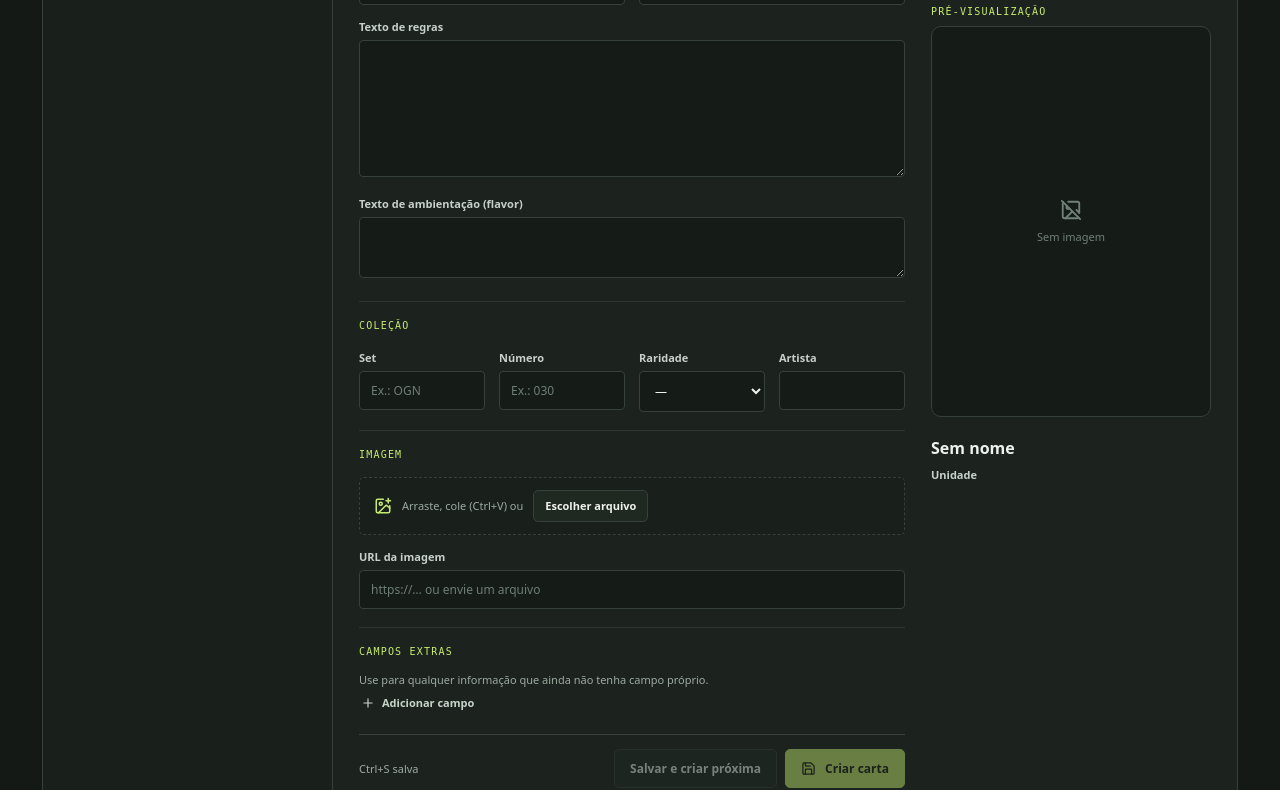
Test: AddCardsPage › warns about a repeated set and collector number
(page scrolled)
Type "OGN" into the field labelled "Set". click: [422, 390]
box: [359,371,485,410]
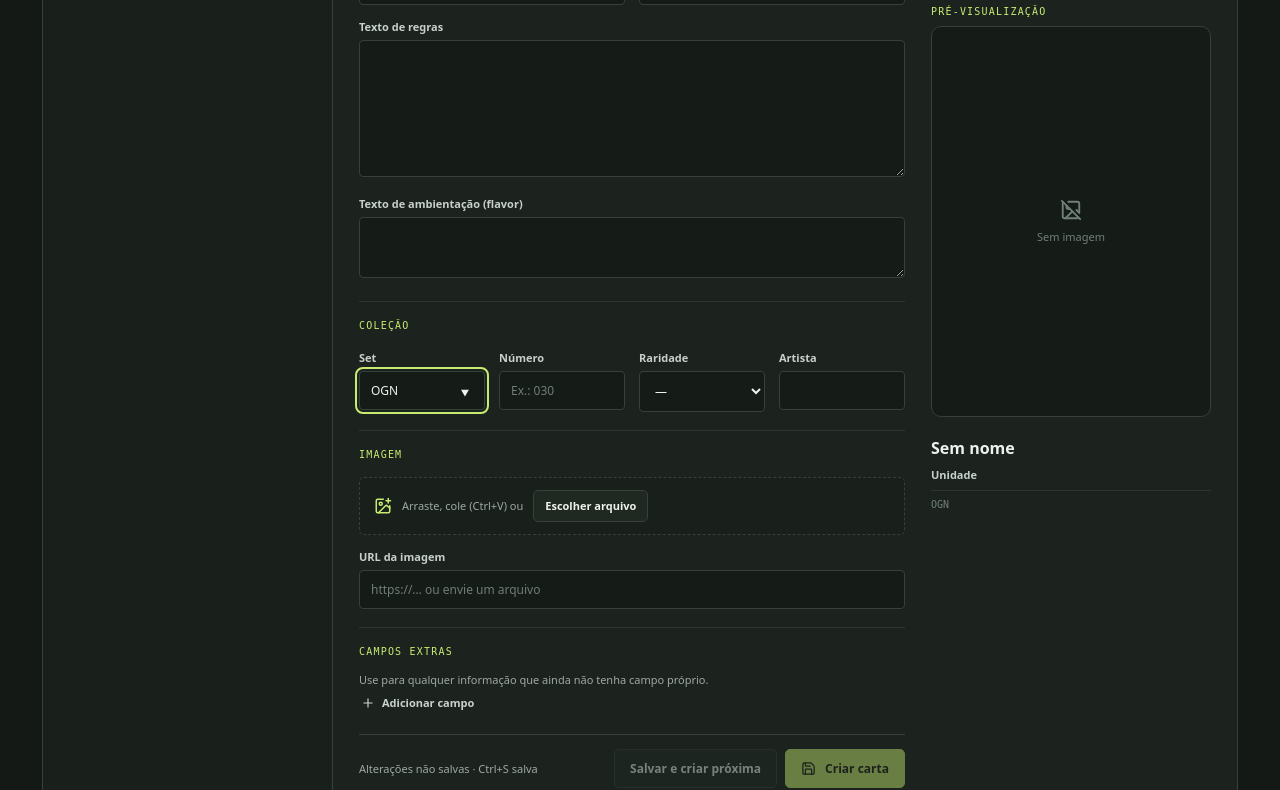
Type "030" into the field labelled "Número". click: [562, 390]
box: [499,371,625,410]
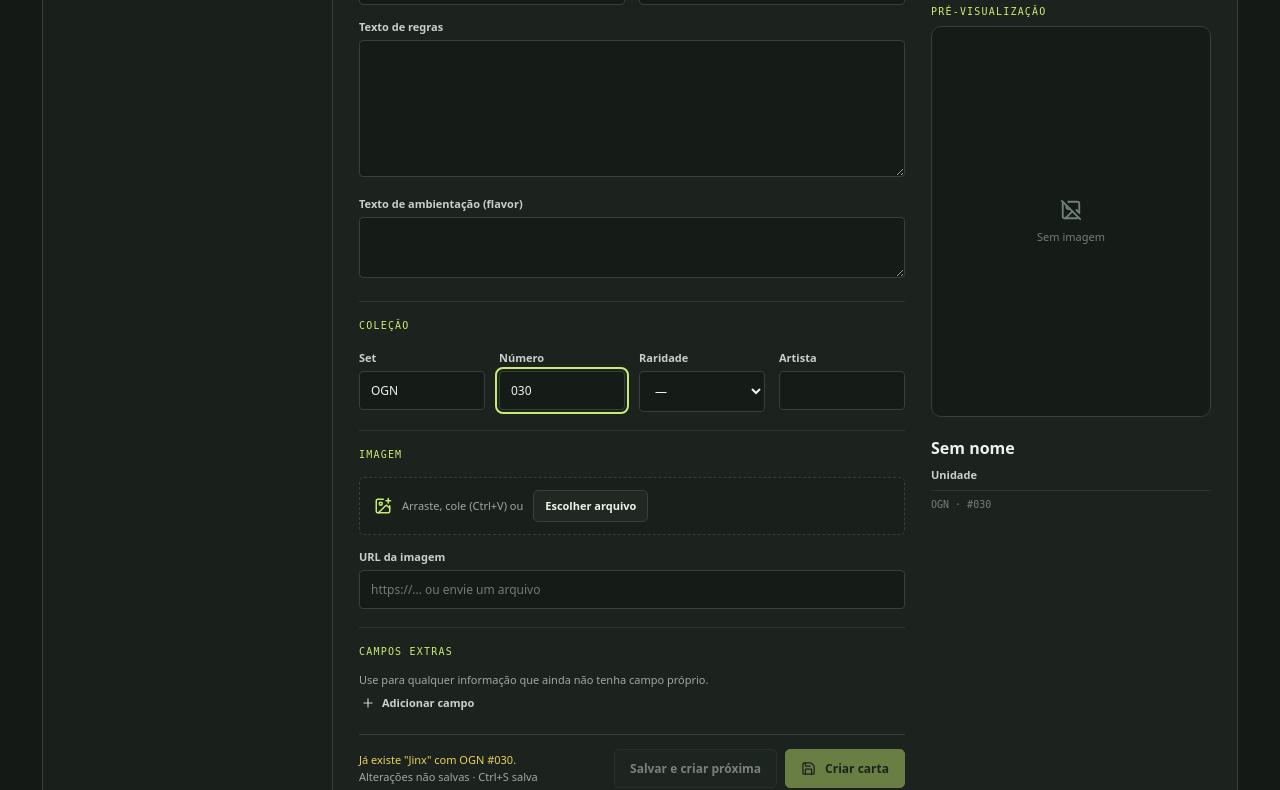
Expected: the text "Já existe \"Jinx\" com OGN #030." is shown, [359,752,538,768]
